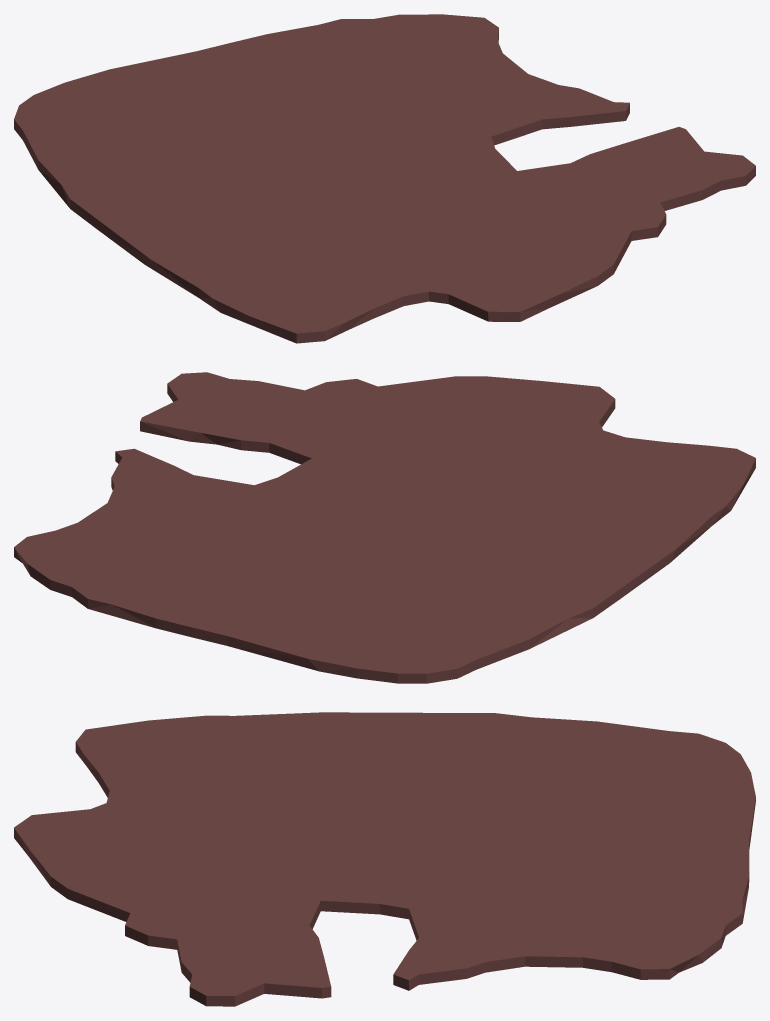
Rendered from RAS_Ground04.fbx.
3 views of the same model, one above another, from view 1: azimuth 30°, elevation 25°; view 2: azimuth 150°, elevation 25°; view 3: azimuth 270°, elevation 25° (orthographic). The views are drawn at different scales.
Parts seen in each view (by area): view 1: RAS_Ground04; view 2: RAS_Ground04; view 3: RAS_Ground04.
Part boxes in pixels (x1,y1,x2,y2): RAS_Ground04: [14, 14, 755, 343]; RAS_Ground04: [14, 372, 755, 683]; RAS_Ground04: [14, 712, 755, 1006].
Bounding box in the file's own units: 639 × 11.03 × 706.
Materials: 1 (1 with a texture image).
